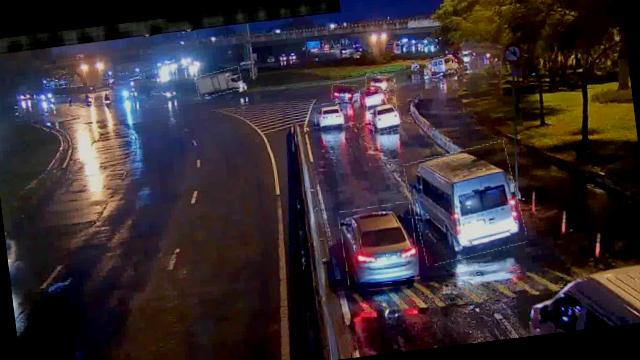Bus: (405, 142, 527, 264), (425, 55, 453, 76)
Car: (338, 202, 421, 287), (366, 96, 401, 133), (314, 102, 346, 130), (359, 83, 388, 107), (330, 81, 360, 102), (364, 72, 395, 92)
Truck: (195, 66, 244, 96)
